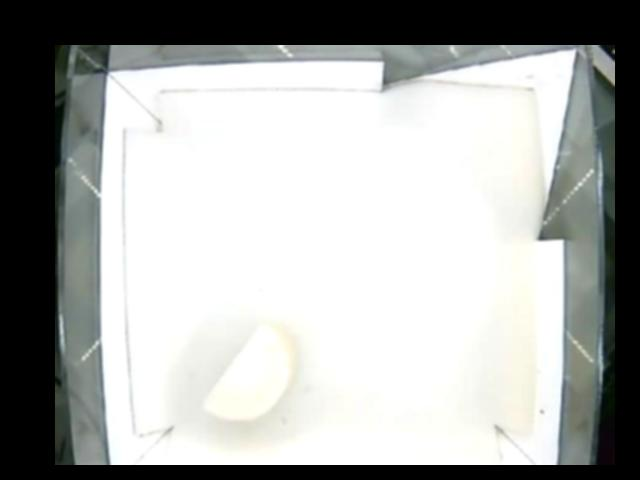Mooli: (199, 323, 294, 417)
